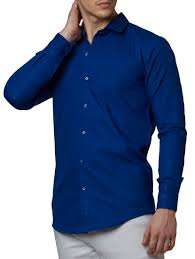S_shirt: (10, 12, 187, 234)
